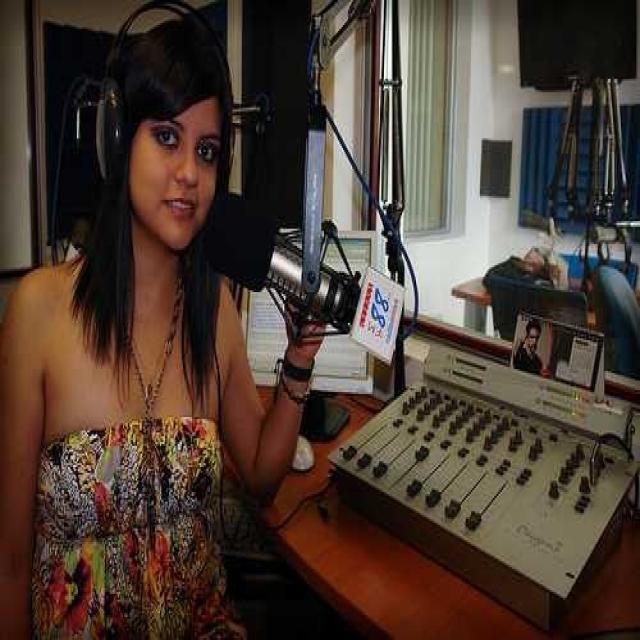microphone: (198, 190, 349, 324)
